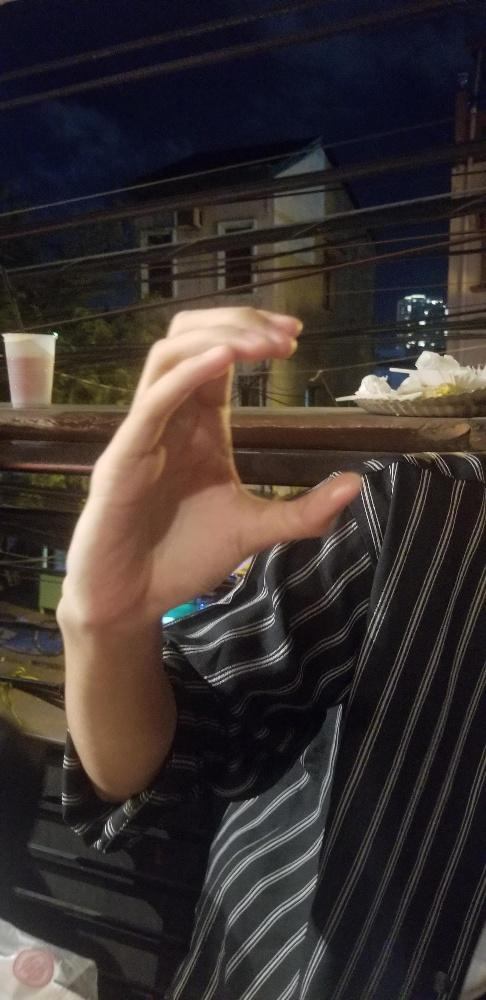c: (57, 301, 364, 629)
